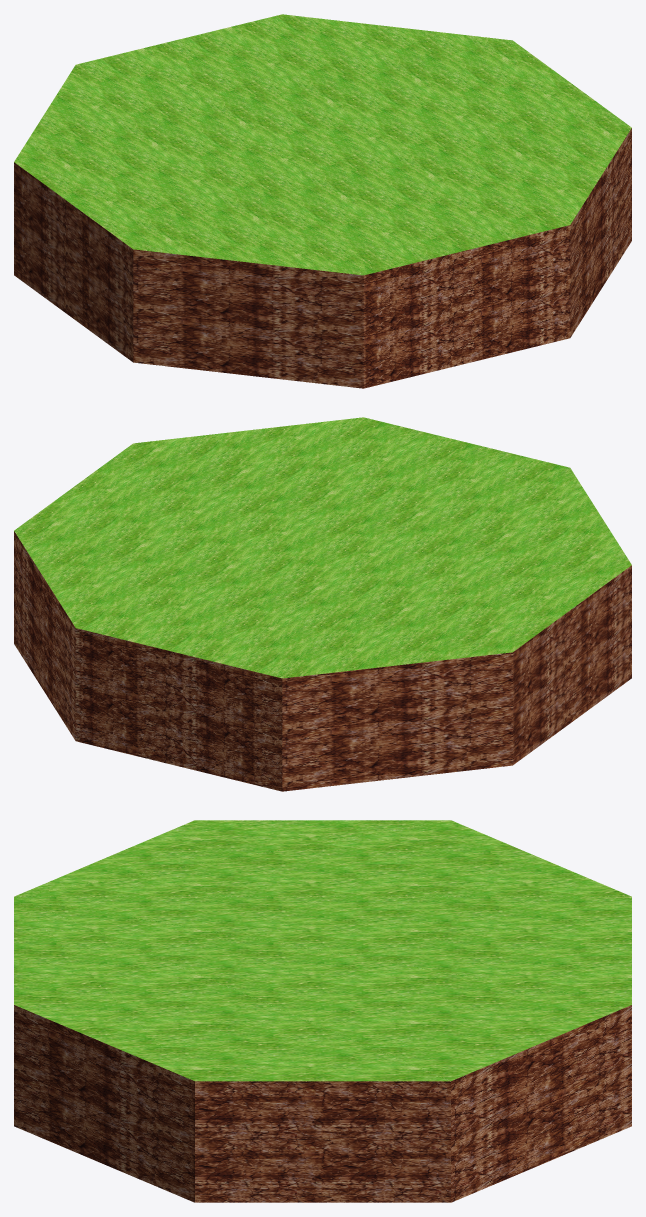
The model's file is grass_wood.obj.
The picture shows the model from 3 angles, top to bottom: view 1: azimuth 30°, elevation 25°; view 2: azimuth 150°, elevation 25°; view 3: azimuth 270°, elevation 25°; orthographic projection. The views are drawn at different scales.
Parts seen in each view (by area): view 1: Cylinderブラシ.031_Cylinderブラシ.042; view 2: Cylinderブラシ.031_Cylinderブラシ.042; view 3: Cylinderブラシ.031_Cylinderブラシ.042.
Part boxes in pixels (bbox=[...]): Cylinderブラシ.031_Cylinderブラシ.042: bbox=[14, 14, 631, 388]; Cylinderブラシ.031_Cylinderブラシ.042: bbox=[14, 417, 631, 791]; Cylinderブラシ.031_Cylinderブラシ.042: bbox=[14, 820, 631, 1202].
Bounding box in the file's own units: 7.13 × 1.55 × 7.13.
